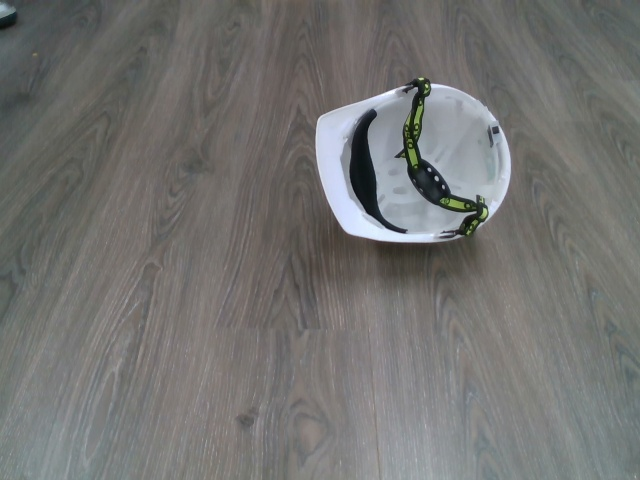helmet: (310, 72, 516, 252)
